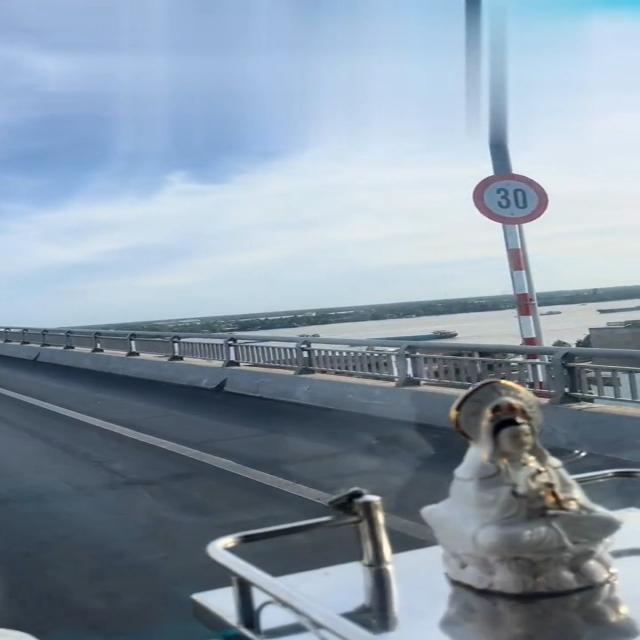127-toc-do-toi-da-30: (468, 173, 552, 224)
